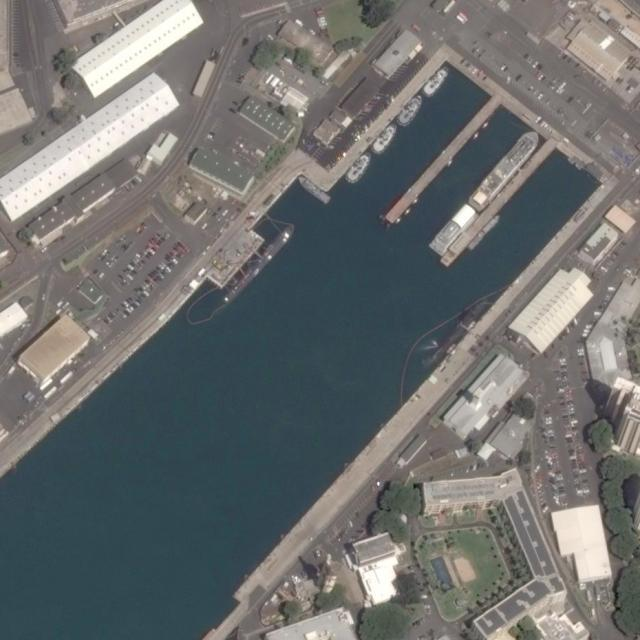Dock: (438, 134, 557, 266), (385, 94, 500, 225)
Hovercraft: (394, 92, 426, 128), (369, 120, 401, 155), (343, 151, 374, 185), (422, 63, 452, 96)
Submarine: (222, 223, 295, 304), (427, 299, 487, 367)
